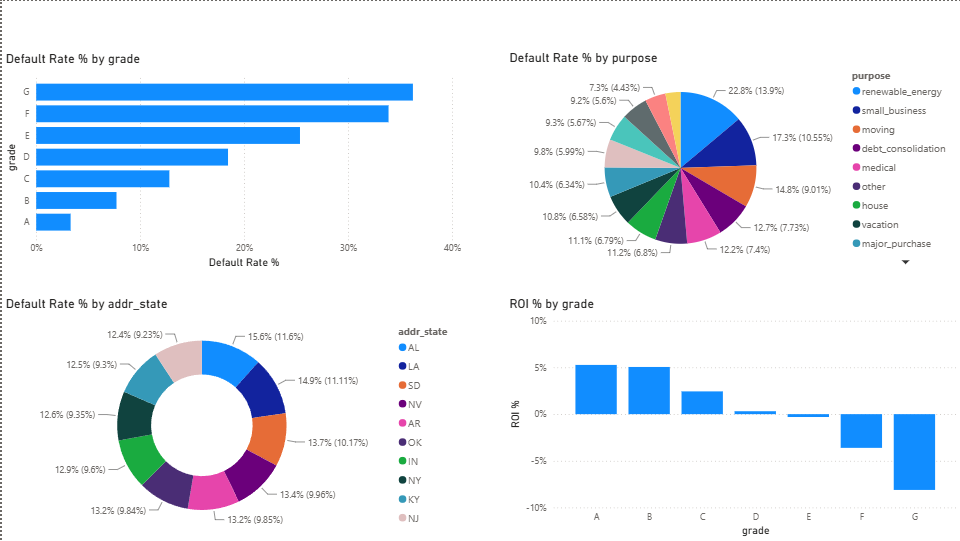

The page's visual inventory and layout, read from the dashboard file:
{"tool":"powerbi","page":{"name":"Risk Analysis","canvas":[1280,720],"ordinal":1},"visuals":[{"type":"clusteredBarChart","fields":{"Category":["loans_clean.grade"],"Y":["loans_clean.Default Rate %"]},"box":[0,66.2,617.3,294.6],"z":0},{"type":"pieChart","fields":{"Category":["loans_clean.purpose"],"Y":["loans_clean.Default Rate %"]},"box":[672,64.5,607.4,296.3],"z":1000},{"type":"donutChart","fields":{"Category":["loans_clean.addr_state"],"Y":["loans_clean.Default Rate %"]},"box":[0,393.9,617.3,326.1],"z":2000},{"type":"clusteredColumnChart","fields":{"Category":["loans_clean.grade"],"Y":["loans_clean.ROI %"]},"box":[672,393.9,607.4,326.1],"z":3000}]}

Visuals, with their boxes in screenshot pixels (x1, y1, x2, y2), scaled from the page's 1280x720 canvas onto the 960x541 screenshot:
clusteredBarChart - loans_clean.grade x loans_clean.Default Rate %: 0 50 463 271
pieChart - loans_clean.purpose x loans_clean.Default Rate %: 504 48 959 271
donutChart - loans_clean.addr_state x loans_clean.Default Rate %: 0 296 463 540
clusteredColumnChart - loans_clean.grade x loans_clean.ROI %: 504 296 959 540
